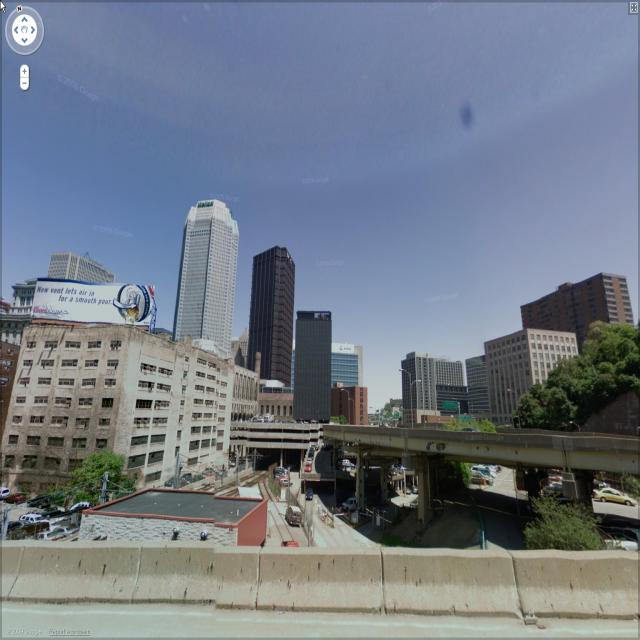b_1: (7, 329, 235, 495), (166, 192, 246, 354), (250, 245, 292, 376), (300, 303, 342, 429), (406, 353, 446, 420), (465, 351, 497, 424), (336, 383, 372, 423)
b_2: (520, 269, 640, 366), (483, 323, 583, 421), (4, 278, 54, 360), (53, 250, 117, 302)
